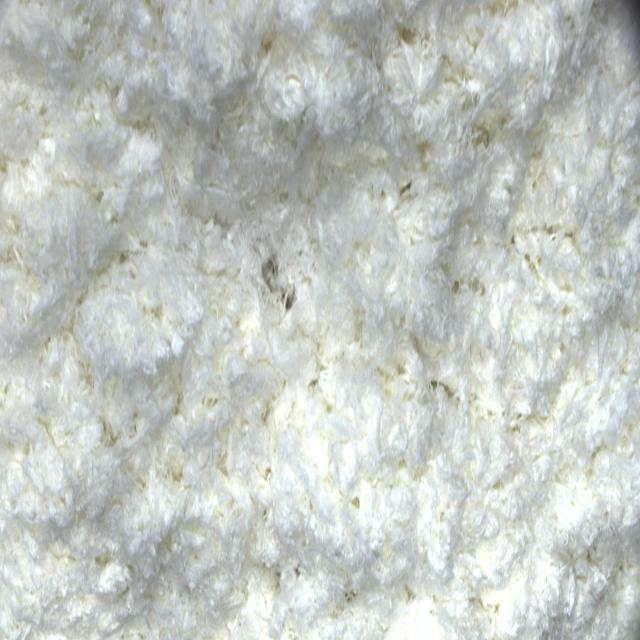dust: (262, 257, 292, 313)
